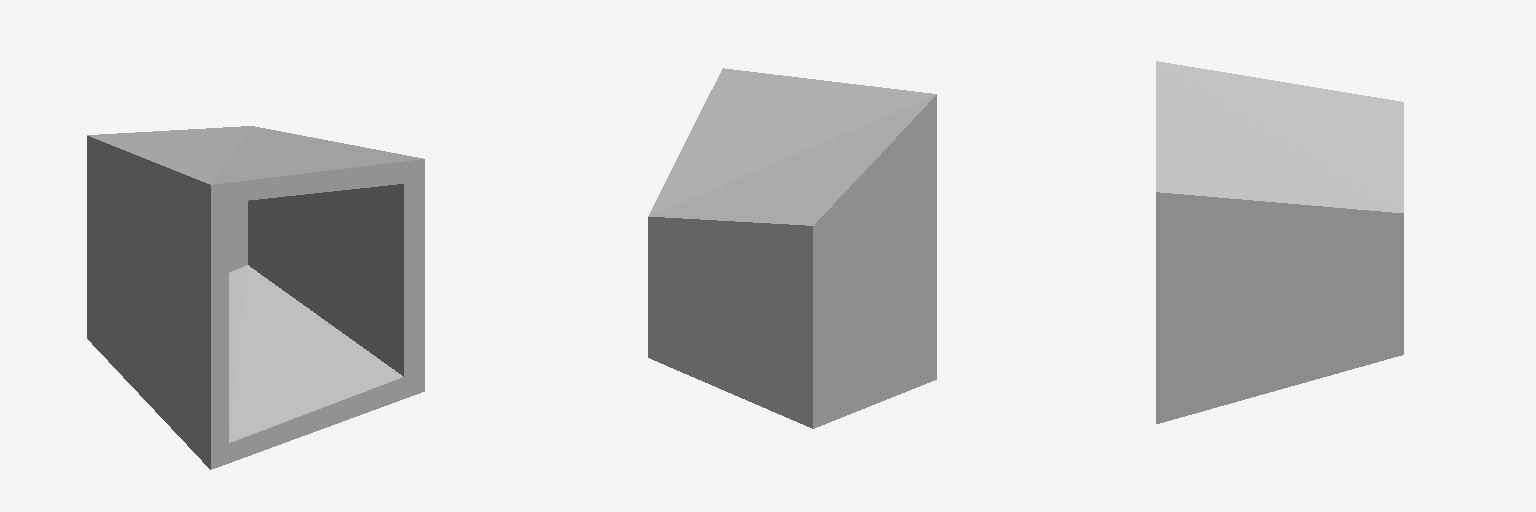
Rendered from container.obj.
The picture shows the model from 3 angles: view 1: azimuth 30°, elevation 25°; view 2: azimuth 150°, elevation 25°; view 3: azimuth 270°, elevation 25°; orthographic projection.
Parts seen in each view (by area): view 1: Cube_container; view 2: Cube_container; view 3: Cube_container.
Boxes of the visible parts, x1=… form: Cube_container: x1=87, y1=126, x2=424, y2=469; Cube_container: x1=648, y1=68, x2=936, y2=428; Cube_container: x1=1156, y1=61, x2=1403, y2=423.
Size of the model in its own units: 0.6 by 0.7623 by 0.6.